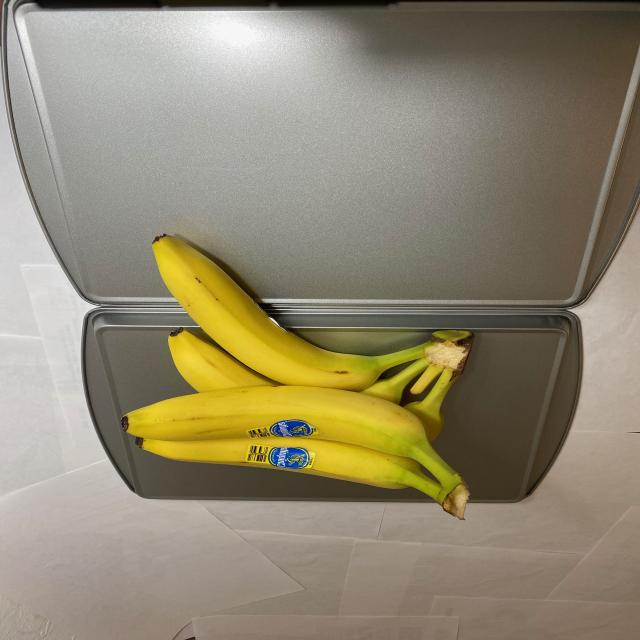banana: (119, 227, 482, 522)
